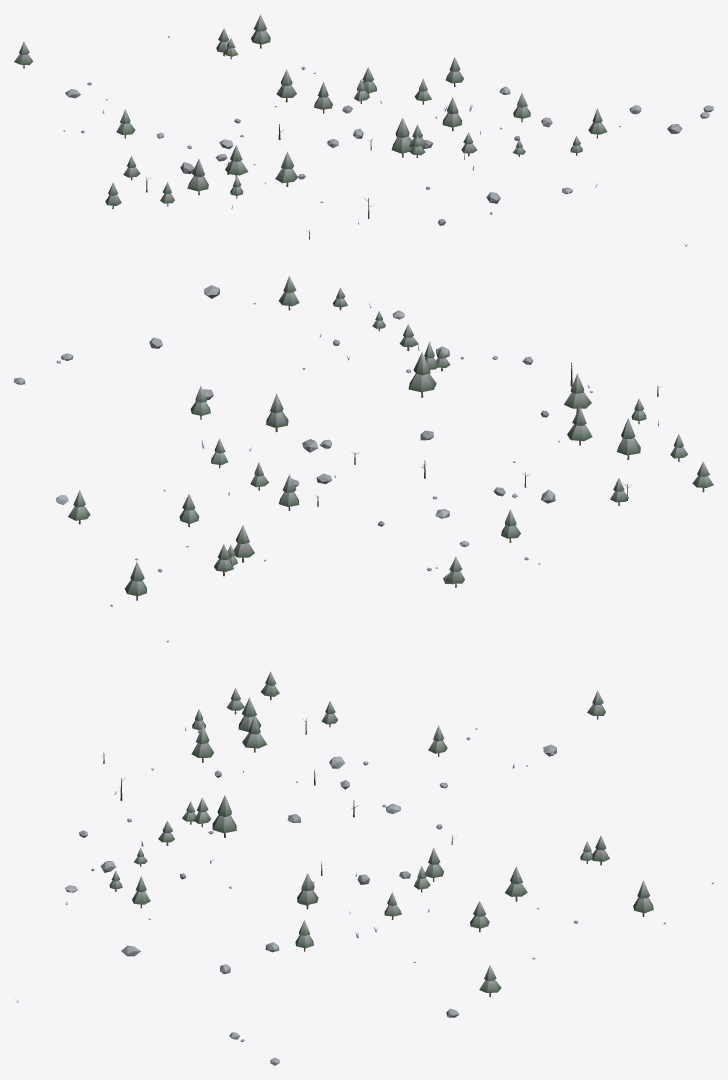
The model's file is frost_land_scatter_c13_12_lod1.glb.
3 views of the same model, one above another, from view 1: azimuth 30°, elevation 25°; view 2: azimuth 150°, elevation 25°; view 3: azimuth 270°, elevation 25° (orthographic). The views are drawn at different scales.
Parts seen in each view (by area): view 1: frost_land_scatter_c13_12_lod1; view 2: frost_land_scatter_c13_12_lod1; view 3: frost_land_scatter_c13_12_lod1.
Part boxes in pixels (x1,y1,x2,y2): frost_land_scatter_c13_12_lod1: [14, 14, 713, 246]; frost_land_scatter_c13_12_lod1: [14, 276, 713, 642]; frost_land_scatter_c13_12_lod1: [14, 671, 713, 1065].
Size of the model in its own units: 252 by 43.43 by 234.
